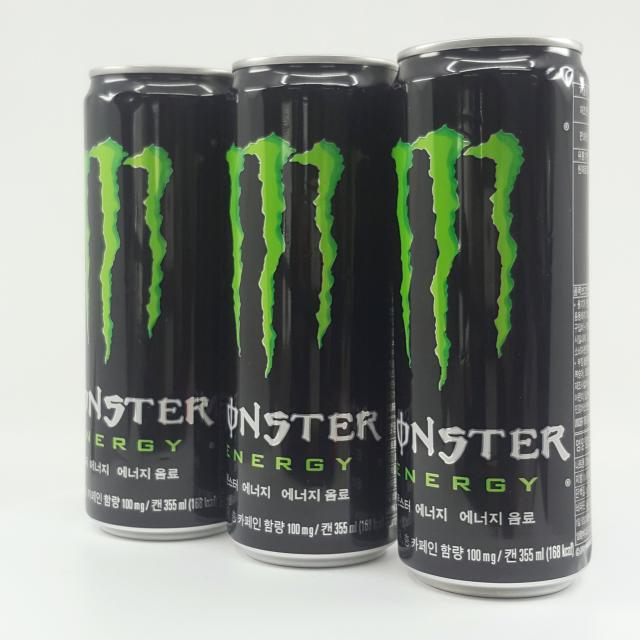--------355ML: (392, 36, 591, 599), (226, 55, 406, 568), (83, 64, 246, 540)
